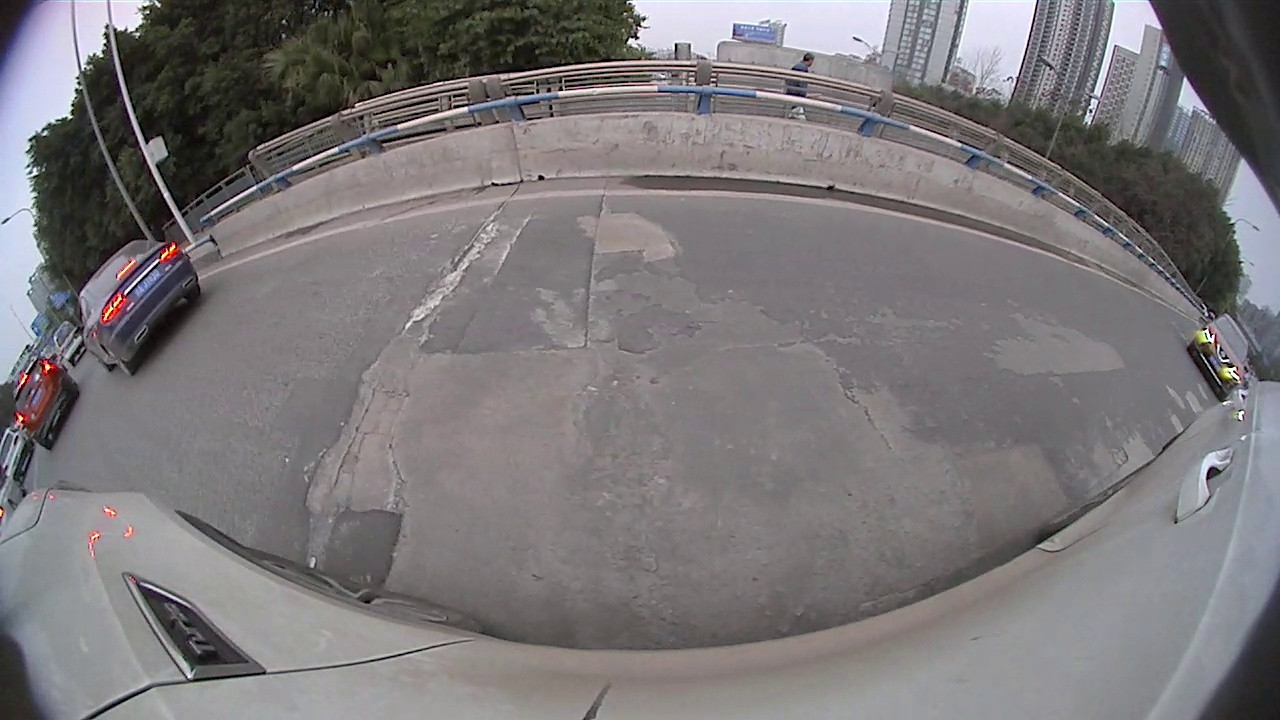car: (73, 237, 203, 380), (11, 354, 82, 452), (1185, 311, 1253, 400), (1, 424, 35, 487), (50, 322, 83, 365)
person: (788, 51, 813, 123)
rear: (103, 344, 138, 379), (177, 276, 204, 304)
